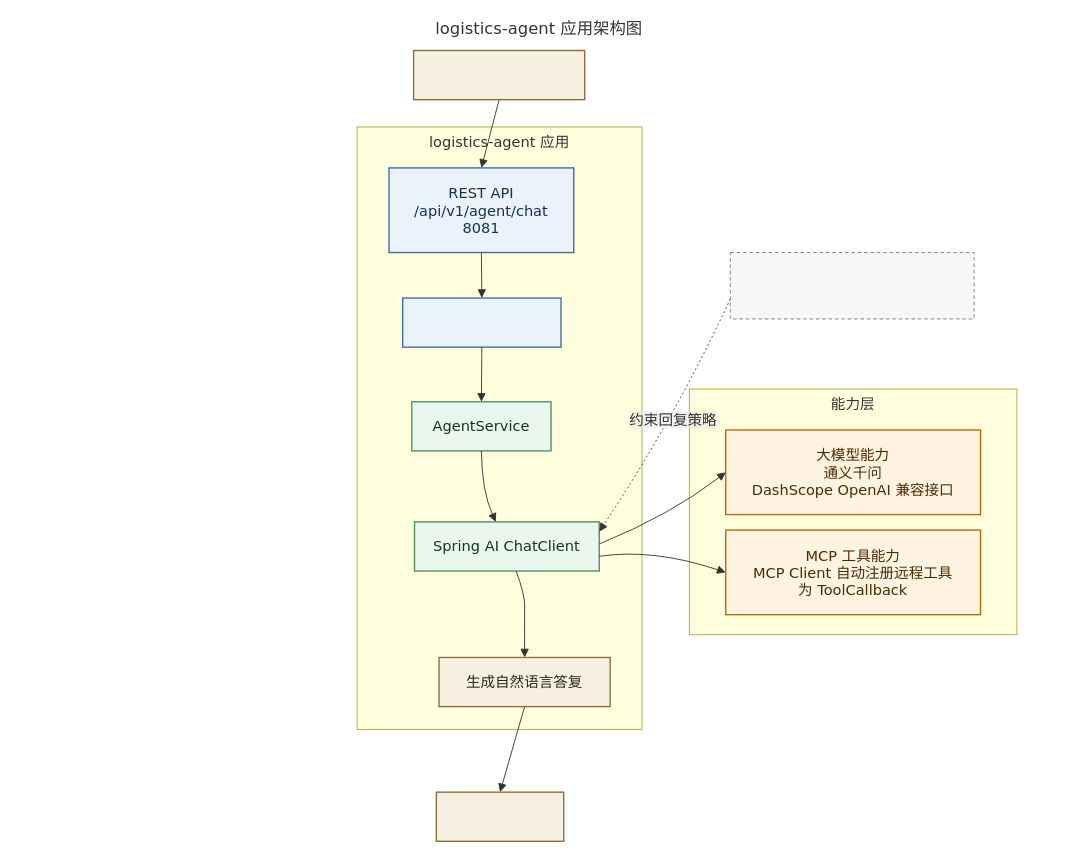
This 1077x857 diagram has some shape labels left out. Here are the shapes that lost their labels. From the top down, the centre of each, then its label:
(x=499, y=74): 用户发起客服诉求
(x=851, y=285): System Prompt 约束三类失败语义的回复策略
(x=481, y=322): AgentController
(x=499, y=816): 返回给用户
